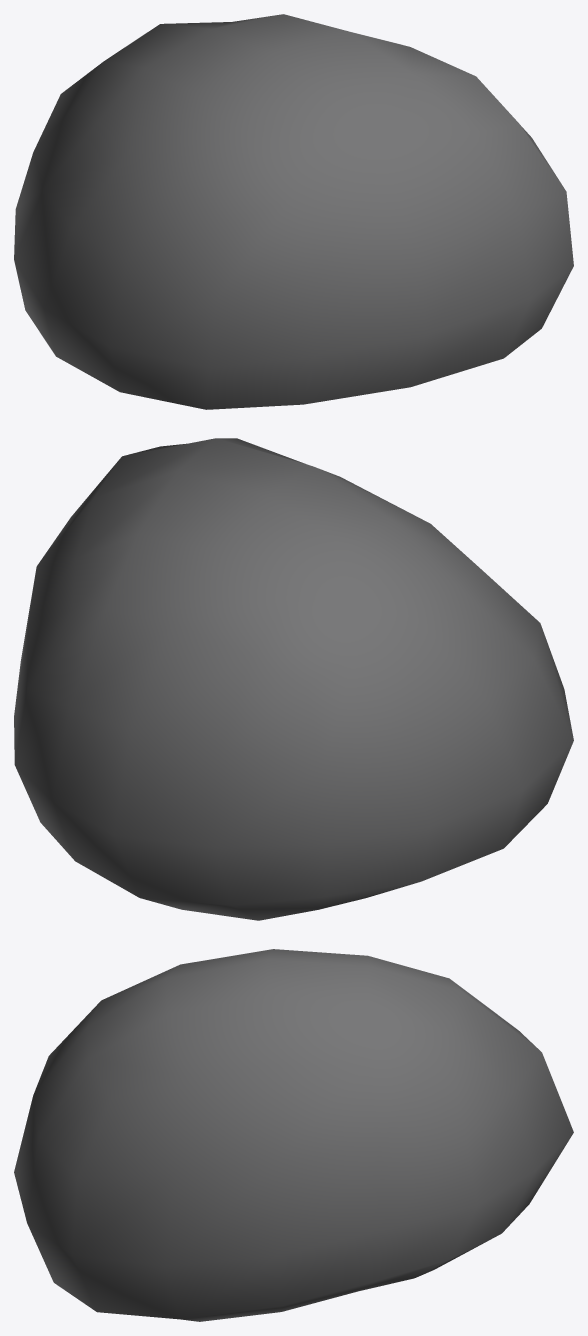
Rendered from Pebble_3a.gltf.
3 views of the same model, one above another, from view 1: azimuth 30°, elevation 25°; view 2: azimuth 150°, elevation 25°; view 3: azimuth 270°, elevation 25° (orthographic). The views are drawn at different scales.
Parts seen in each view (by area): view 1: Pebble_3a; view 2: Pebble_3a; view 3: Pebble_3a.
Part boxes in pixels (box(x1,y1,x2,y2)): Pebble_3a: box(14, 14, 573, 409); Pebble_3a: box(14, 438, 573, 920); Pebble_3a: box(14, 949, 573, 1321).
Bounding box in the file's own units: 31.55 × 20.3 × 33.35.
Materials: 1 (1 with a texture image).
